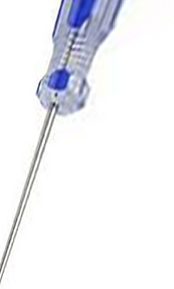screwdriver: (2, 2, 122, 284)
